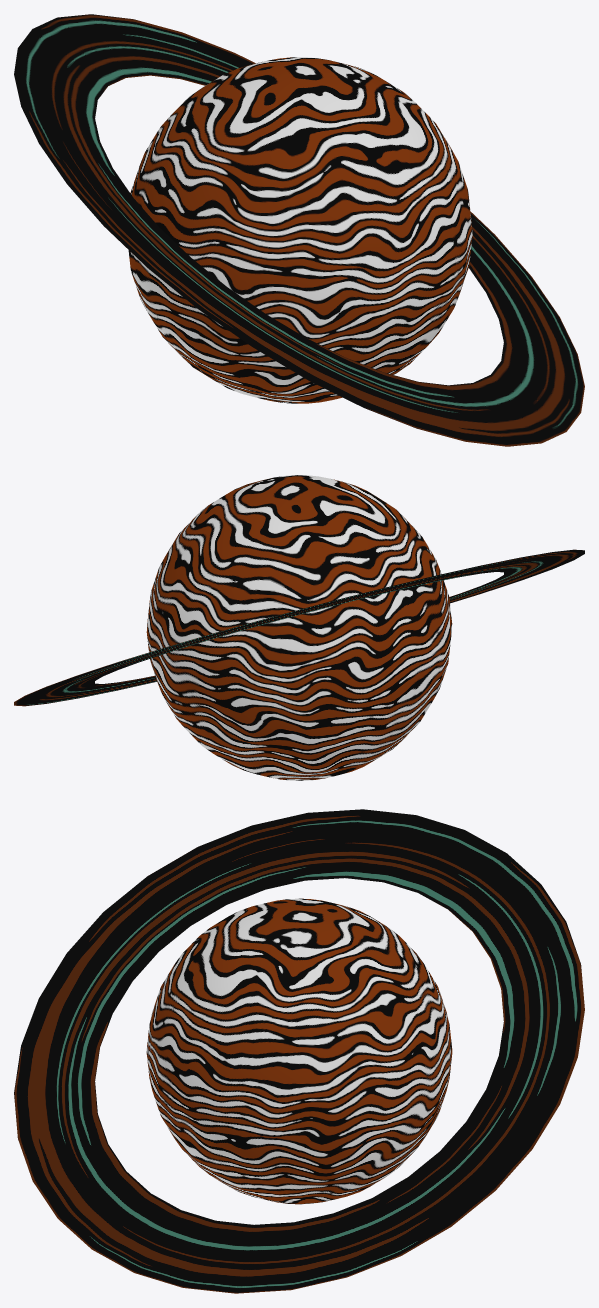
Rendered from TiggerPlanet.glb.
3 renders of one model, top to bottom at view 1: azimuth 30°, elevation 25°; view 2: azimuth 150°, elevation 25°; view 3: azimuth 270°, elevation 25°, orthographic. The views are drawn at different scales.
Visible parts, largest first — view 1: Sphere, Circle; view 2: Sphere, Circle; view 3: Circle, Sphere.
Part boxes in pixels (box(x1,y1,x2,y2)): Sphere: box(128, 57, 472, 403); Circle: box(14, 14, 584, 446); Sphere: box(146, 475, 452, 780); Circle: box(14, 549, 584, 706); Circle: box(14, 809, 584, 1293); Sphere: box(146, 898, 452, 1204).
Size of the model in its own units: 3.46 by 2.05 by 3.73.
Materials: 2 (2 with a texture image).
